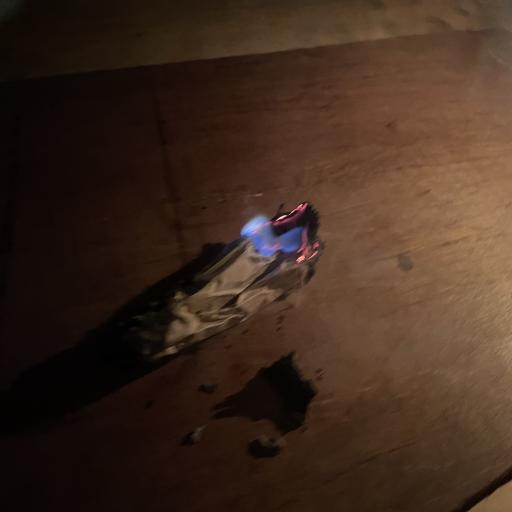fire: (241, 176, 353, 282)
